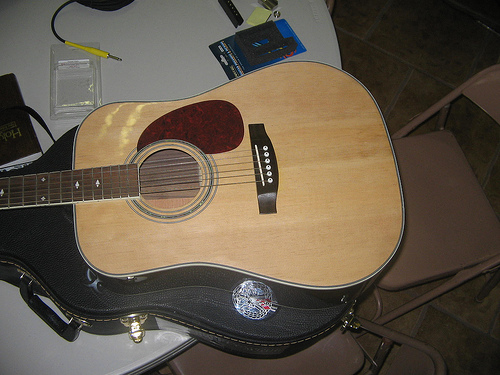guitar: (1, 61, 409, 308)
